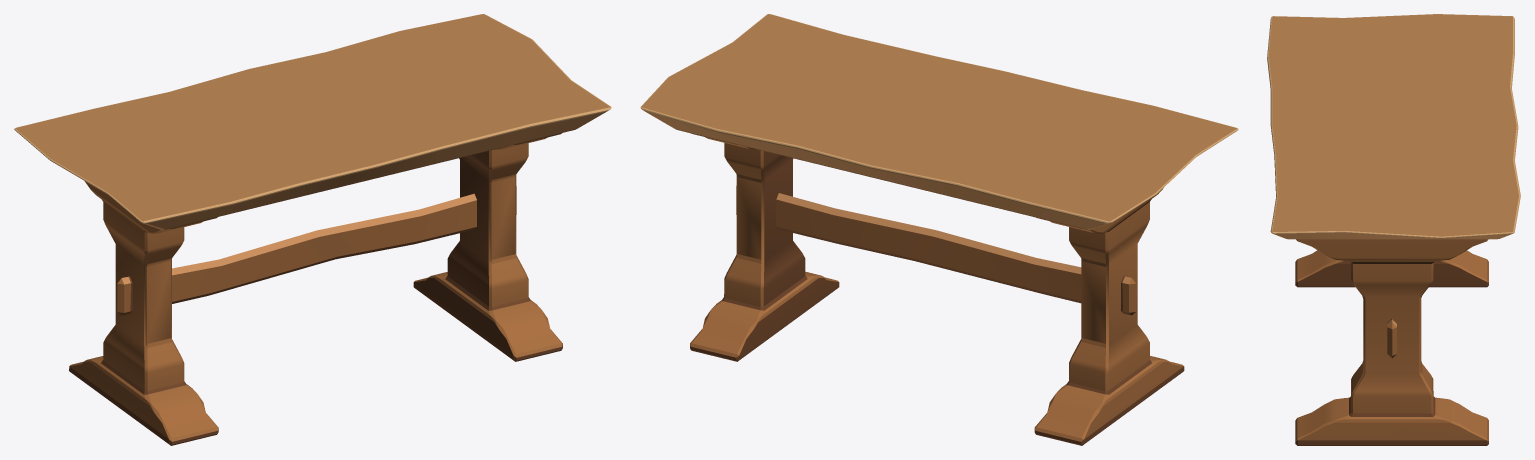
File: UD_TIR_Trestle_Table.fbx
3 renders of one model, left to right at view 1: azimuth 30°, elevation 25°; view 2: azimuth 150°, elevation 25°; view 3: azimuth 270°, elevation 25°, orthographic. The views are drawn at different scales.
Parts seen in each view (by area): view 1: Trestle_Table; view 2: Trestle_Table; view 3: Trestle_Table.
Part boxes in pixels (box(x1,y1,x2,y2)): Trestle_Table: box(14, 14, 611, 445); Trestle_Table: box(640, 14, 1238, 445); Trestle_Table: box(1267, 14, 1520, 445).
Size of the model in its own units: 161 by 77.39 by 77.18.
